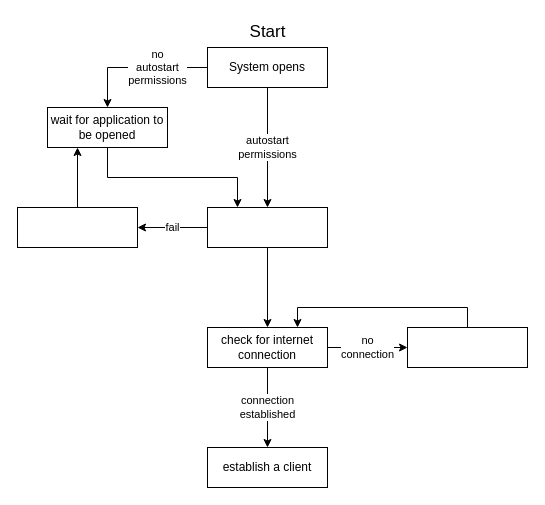
Some shapes in this 545 by 505 pixel diagram are drawn without their labels. The shapes that lost their labels are listed below. From the top down, each one's centre as x and y in pixels, then its label:
At (267,227): "ask to login".
At (467,347): "wait 5 seconds".
